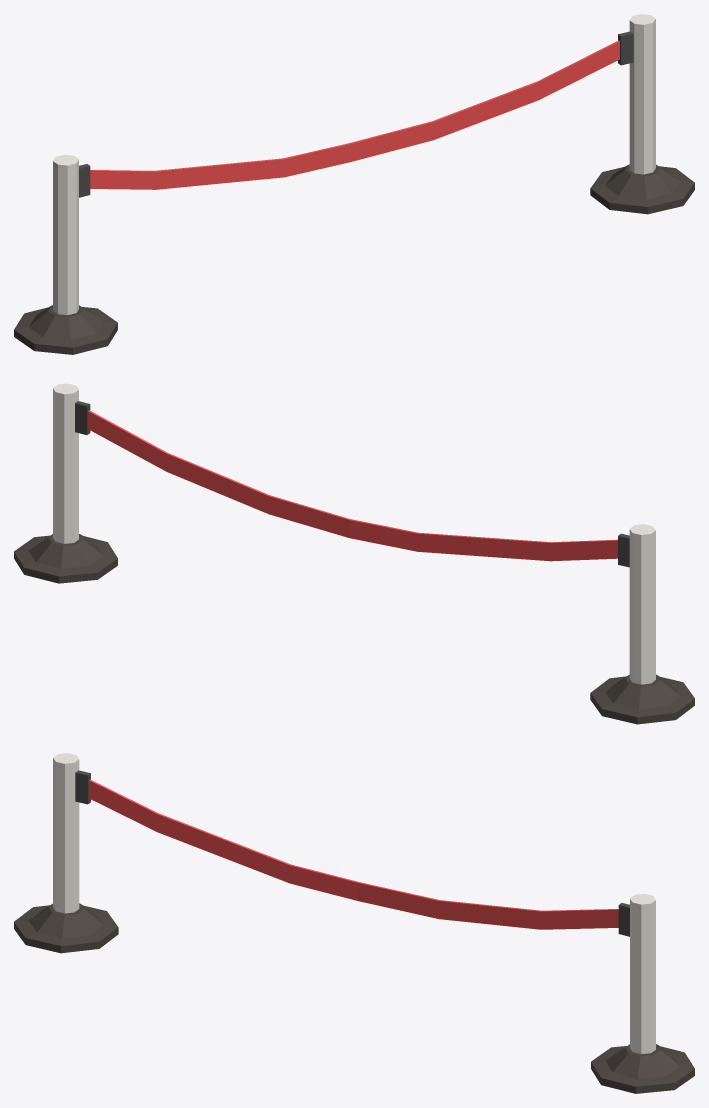
File: stanchion.fbx
3 views of the same model, one above another, from view 1: azimuth 30°, elevation 25°; view 2: azimuth 150°, elevation 25°; view 3: azimuth 330°, elevation 25° (orthographic).
Parts seen in each view (by area): view 1: Stanchion; view 2: Stanchion; view 3: Stanchion.
Boxes of the visible parts, x1=… form: Stanchion: x1=14, y1=14, x2=694, y2=354; Stanchion: x1=14, y1=383, x2=694, y2=724; Stanchion: x1=14, y1=753, x2=694, y2=1093.
Bounding box in the file's own units: 400 × 100 × 50.
